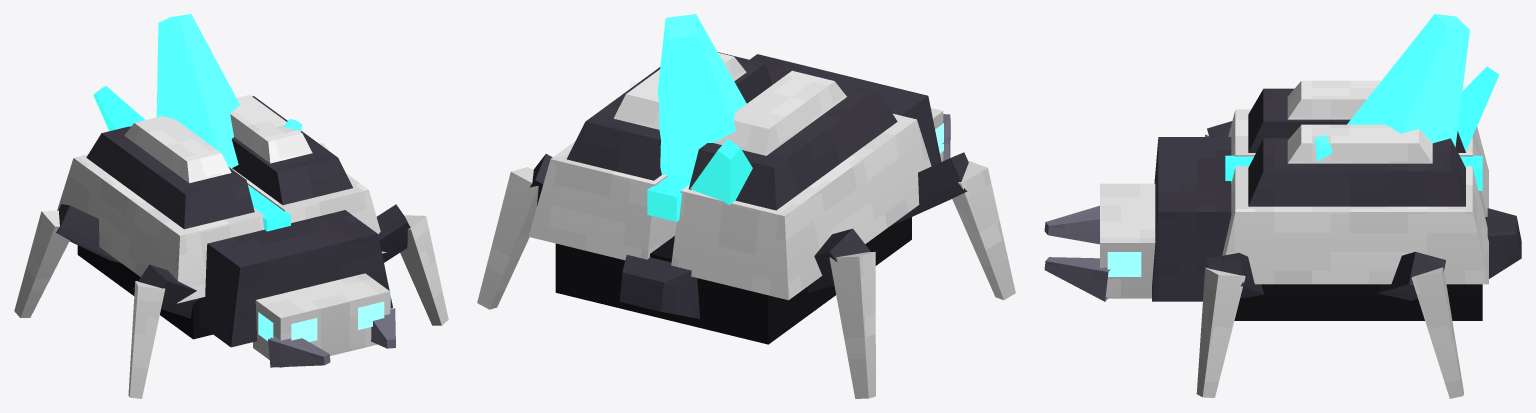
File: mob_shard_bug.glb
3 renders of one model, left to right at view 1: azimuth 30°, elevation 25°; view 2: azimuth 150°, elevation 25°; view 3: azimuth 270°, elevation 25°, orthographic. The views are drawn at different scales.
Visible parts, largest first — view 1: mob_shard_bug, glow_shards, leg_br, leg_fl, leg_fr, glow_eyes; view 2: mob_shard_bug, glow_shards, leg_br, leg_fr, leg_bl, sway_tail; view 3: mob_shard_bug, glow_shards, leg_fl, leg_bl, sway_tail, glow_eyes.
Part boxes in pixels (x1,y1,x2,y2): mob_shard_bug: (57,95,395,367); glow_shards: (93,14,302,231); leg_br: (14,204,121,317); leg_fl: (376,204,448,325); leg_fr: (128,264,200,398); glow_eyes: (258,294,390,341); mob_shard_bug: (528,52,950,344); glow_shards: (647,14,752,221); leg_br: (807,228,875,398); leg_fr: (891,152,1015,300); leg_bl: (477,154,552,309); sway_tail: (619,255,700,318); mob_shard_bug: (1044,80,1488,320); glow_shards: (1225,14,1498,190); leg_fl: (1196,253,1264,397); leg_bl: (1378,251,1463,398); sway_tail: (1485,208,1521,278); glow_eyes: (1107,252,1141,276).
Bounding box in the file's own units: 0.6688 × 0.5386 × 0.7787.
Materials: 7 (3 with a texture image).
